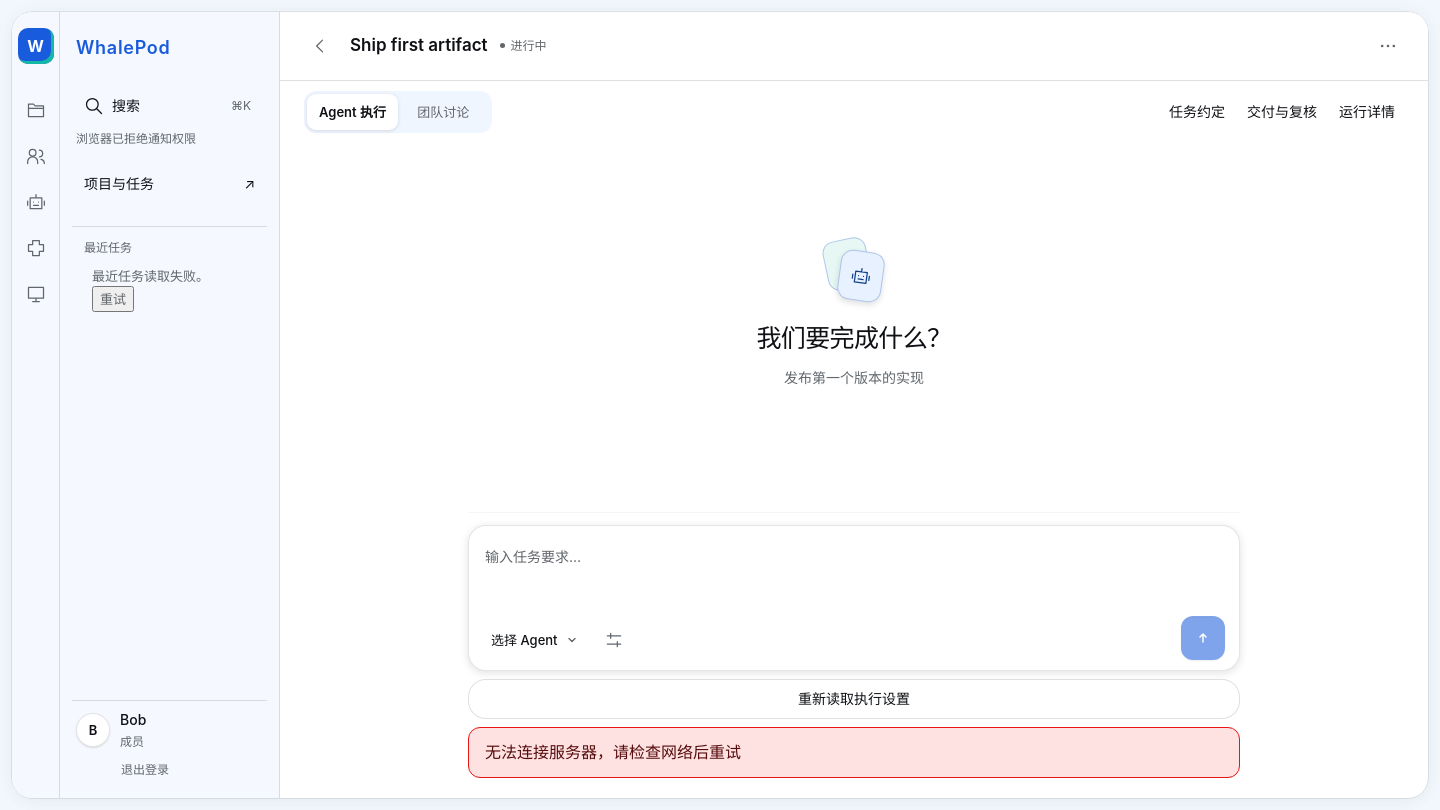
Test: 撤销后的旧页面（#321） › 真实task.changed失效权限并保留草稿，不能再发送或读取责任人私有现场
This screenshot has width=1440, height=810.
Type "保留授权撤销前的工作草稿" into the text box named "指令" at (854, 578), box top-left (483, 540), bottom-right (1225, 616)
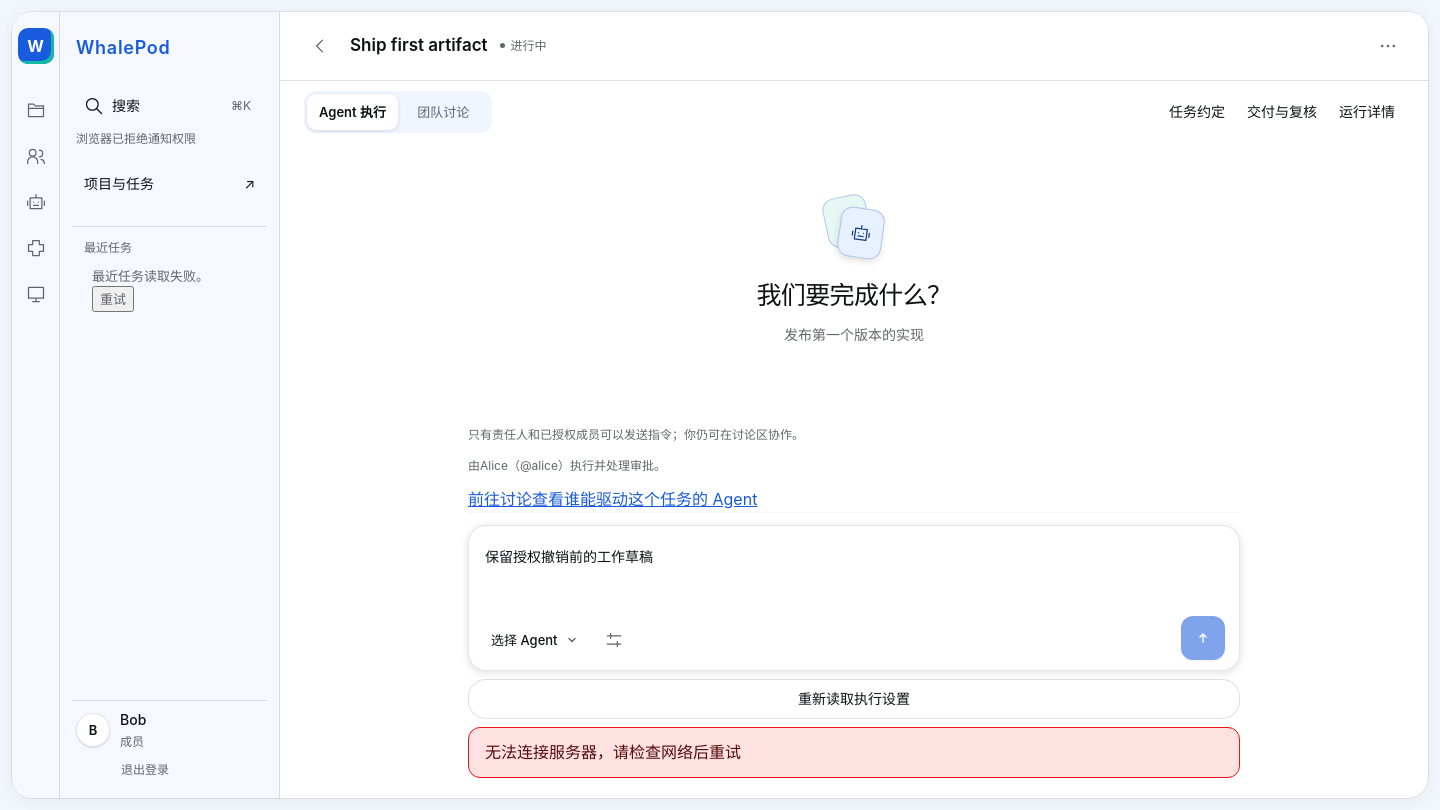
Expected: the text box named "指令" is disabled, top-left (483, 540), bottom-right (1225, 616)
Expected: the message with test id "execution-blocker" shows "只有责任人和已授权成员", top-left (468, 427), bottom-right (804, 442)
